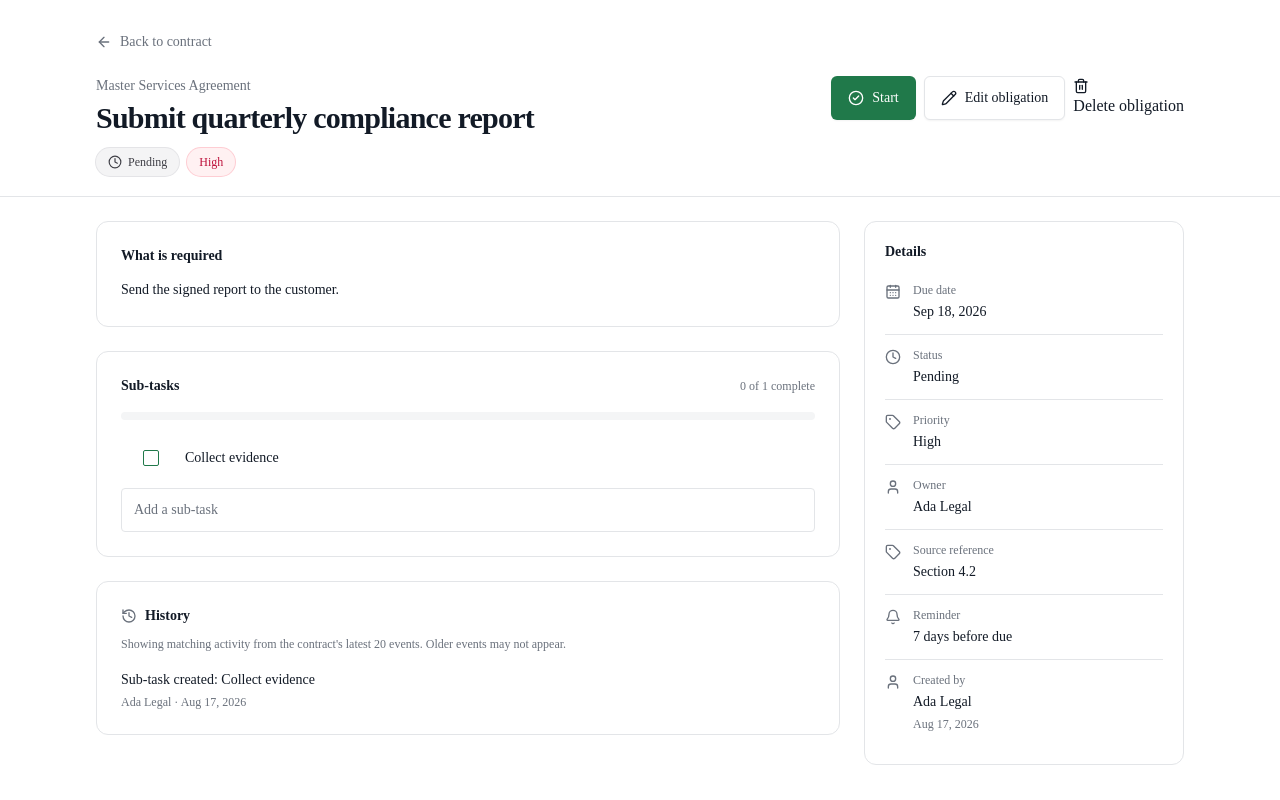
Test: obligation detail responsive action surface › marks bounded history as potentially stale when a post-mutation refresh fails
The width and height of the screenshot is (1280, 800).
Expected: the heading "Submit quarterly compliance report" is shown, [96,100,534,136]
Click the checkbox named "Mark Collect evidence complete": (151, 458) [143,450,159,466]
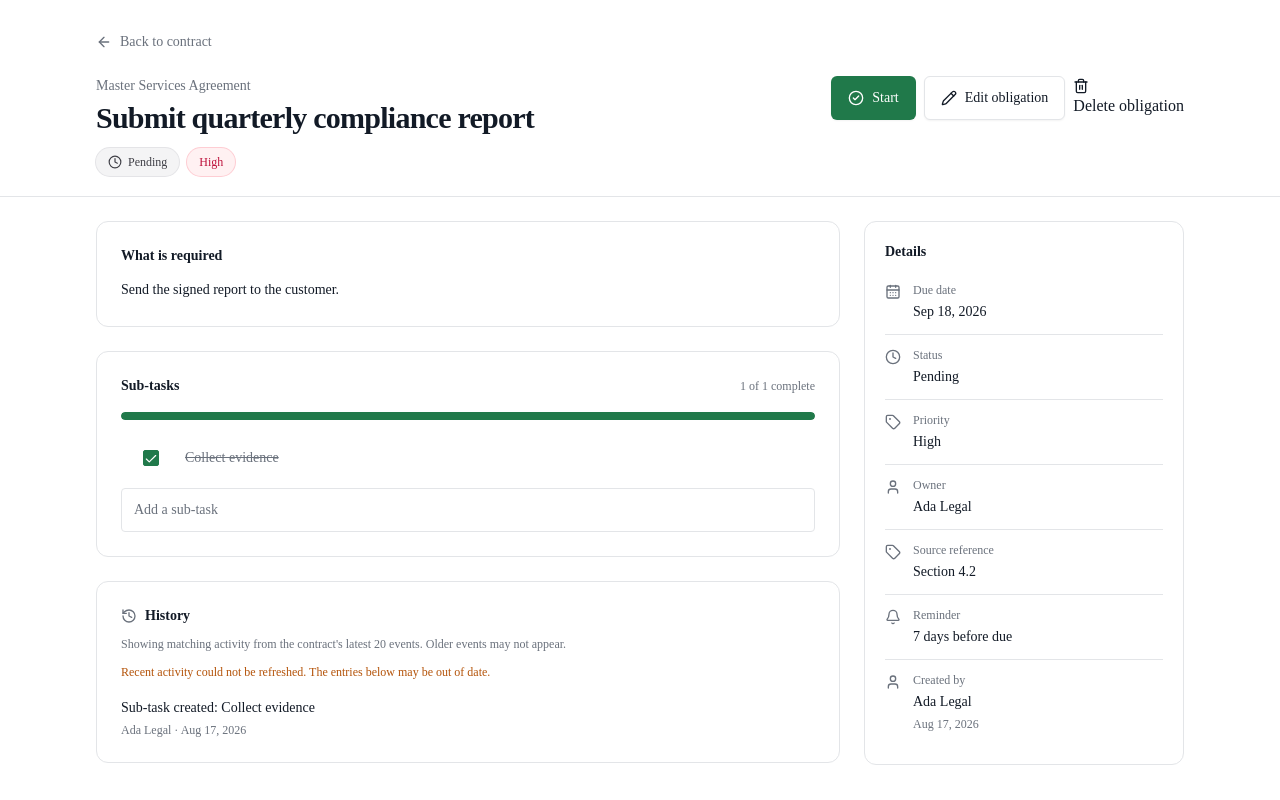
Now the text "Recent activity could not be refreshed. The entries below may be out of date." is shown, box [121,665,490,679]
